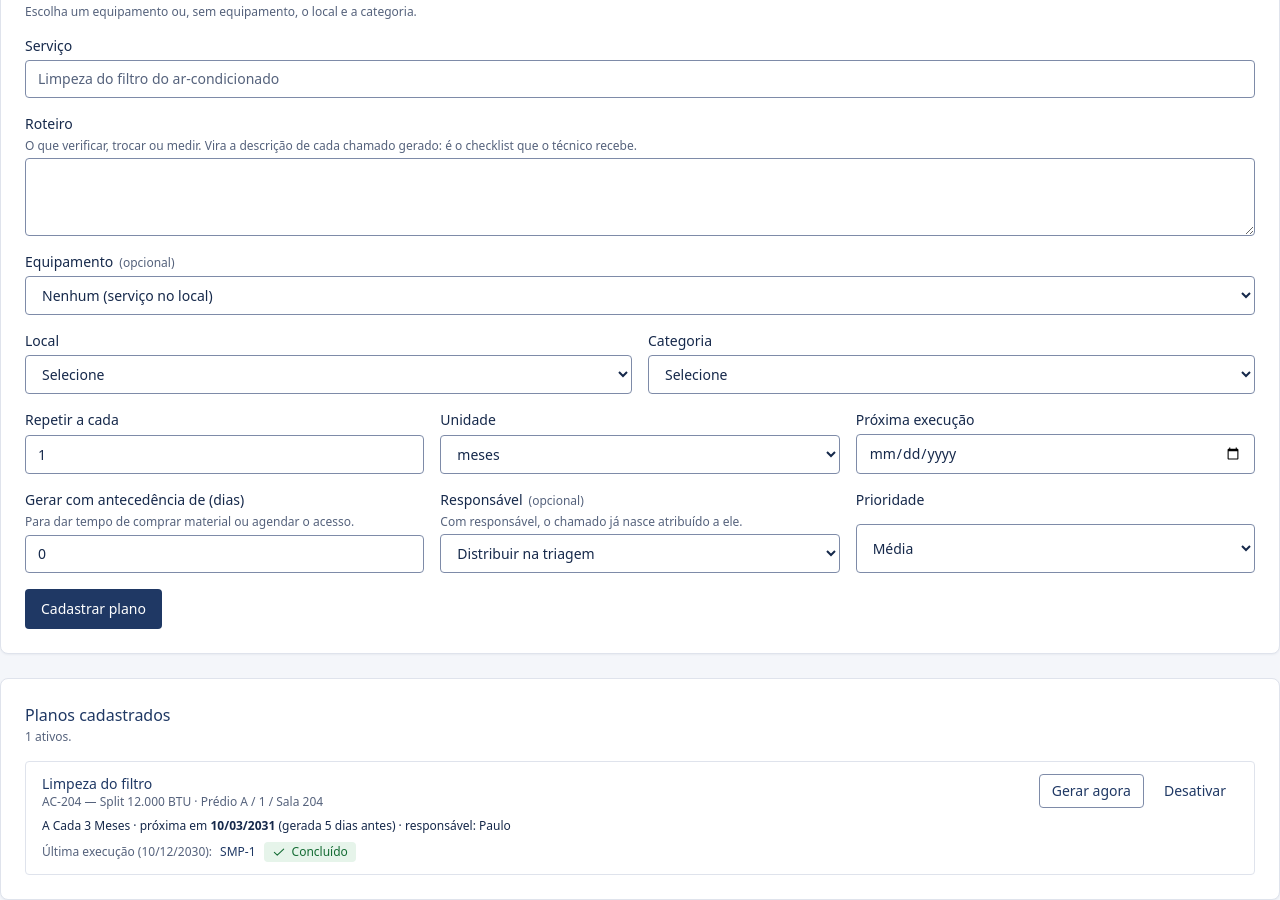
Test case: Tela de manutenção preventiva › desistir da antecipação não gera nada
(page scrolled)
Click the button "Gerar agora" at (1091, 791), box left=1039, top=774, right=1144, bottom=808
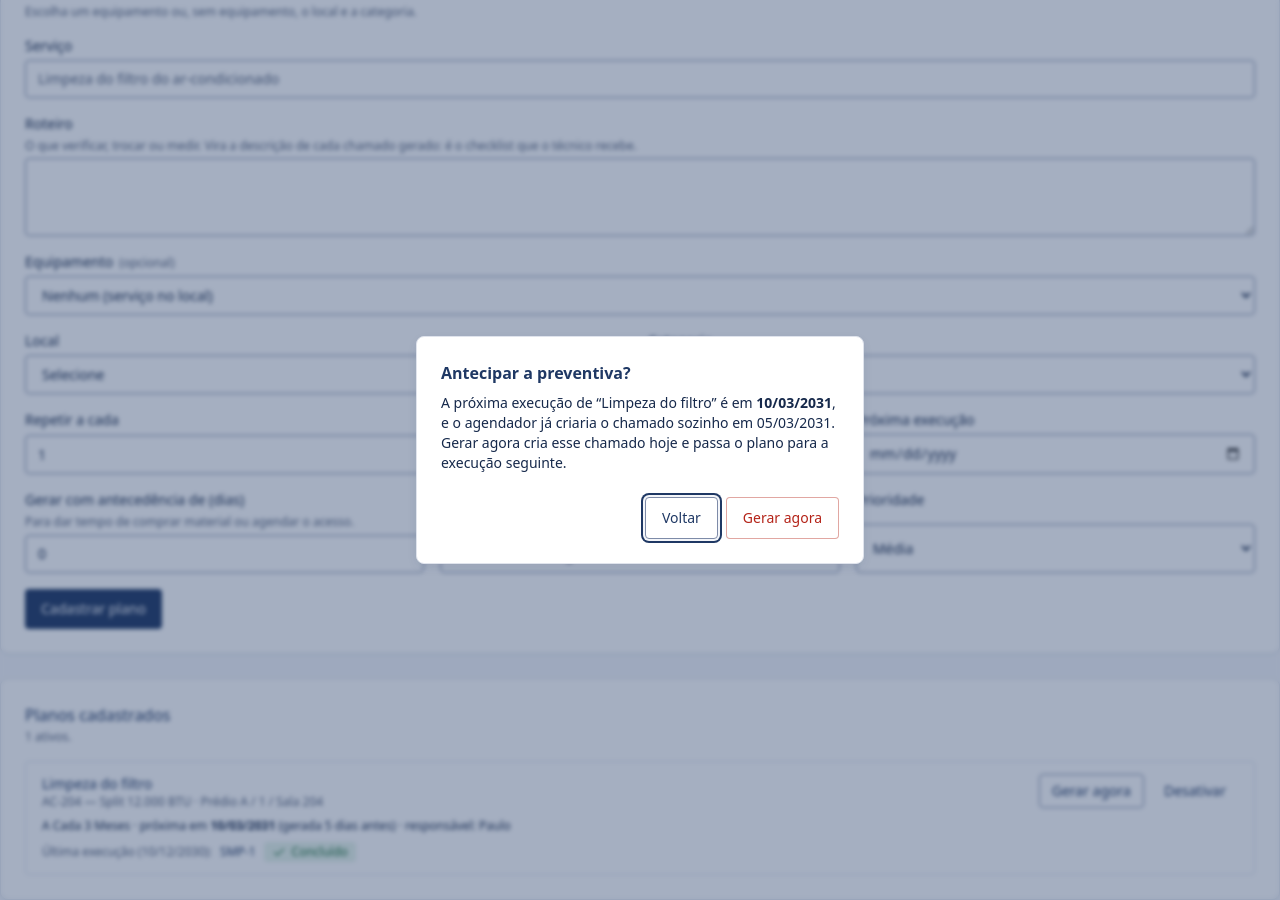
Click the button "Voltar" at (681, 518), box left=645, top=497, right=718, bottom=539
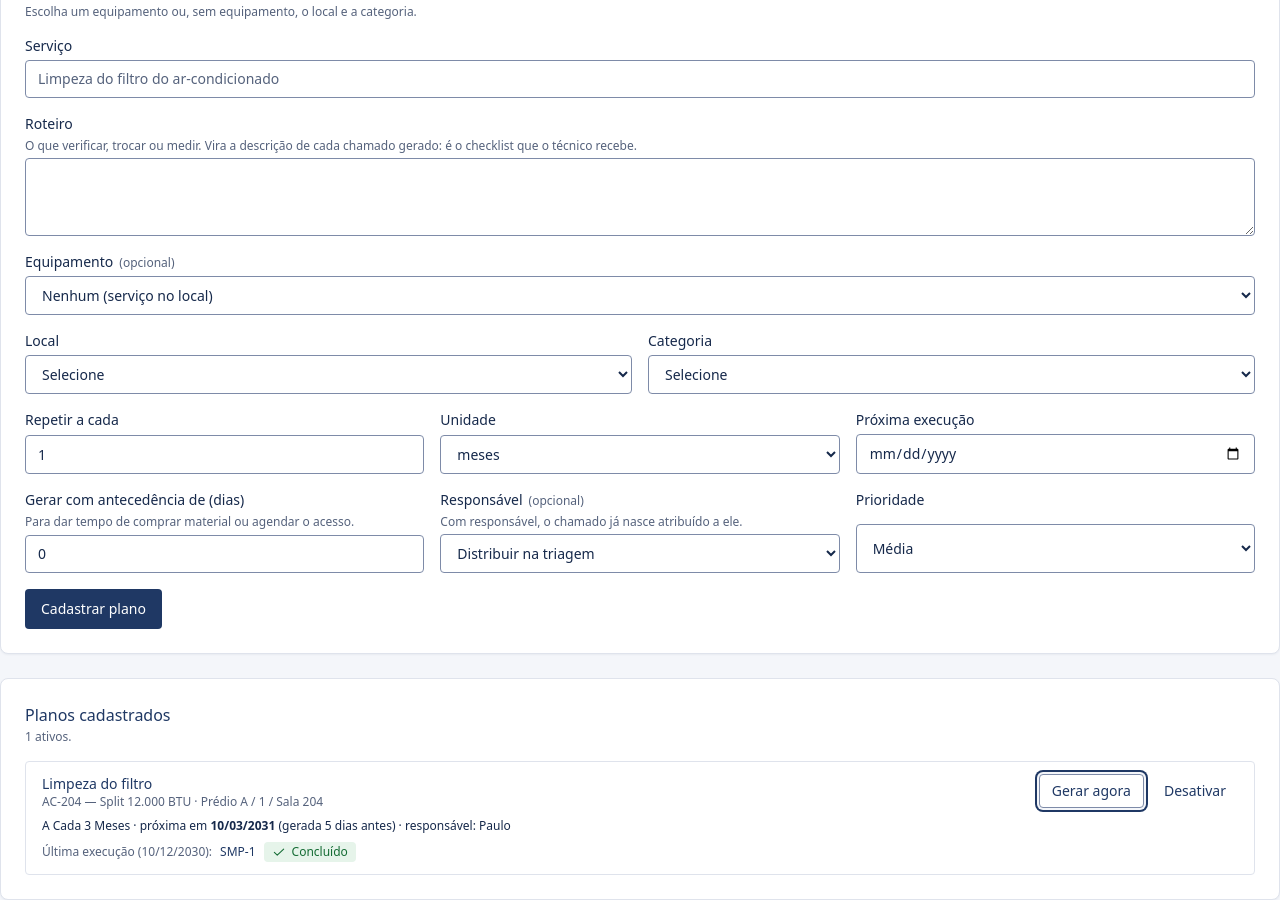
Check: the dialog is gone
